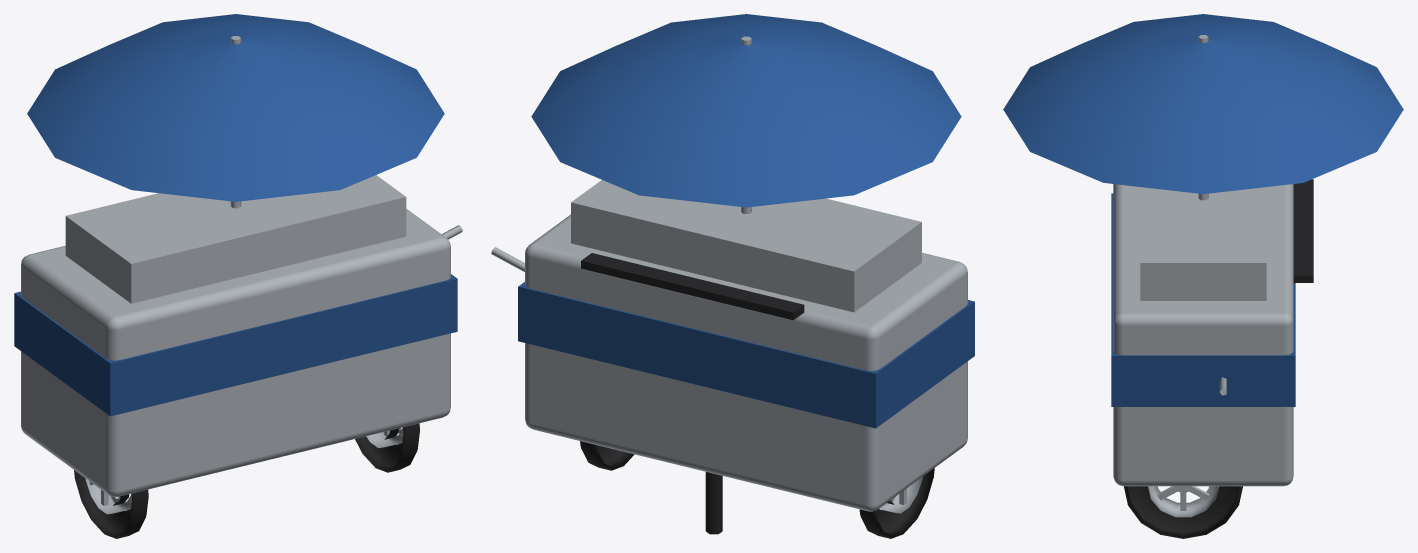
File: FOOD_CART.glb
The picture shows the model from 3 angles, left to right: view 1: azimuth 30°, elevation 25°; view 2: azimuth 150°, elevation 25°; view 3: azimuth 270°, elevation 25°; orthographic projection. The views are drawn at different scales.
Visible parts, largest first — view 1: steel_0, fabric_3, paint_1, tread_2; view 2: steel_0, fabric_3, paint_1, tread_2; view 3: fabric_3, steel_0, paint_1, tread_2.
Part boxes in pixels (x1=…): steel_0: x1=21, y1=36, x2=462, y2=514; fabric_3: x1=27, y1=14, x2=444, y2=201; paint_1: x1=14, y1=274, x2=457, y2=416; tread_2: x1=74, y1=423, x2=419, y2=538; steel_0: x1=491, y1=36, x2=967, y2=513; fabric_3: x1=531, y1=14, x2=961, y2=207; paint_1: x1=518, y1=282, x2=974, y2=428; tread_2: x1=580, y1=253, x2=934, y2=538; fabric_3: x1=1003, y1=14, x2=1403, y2=194; steel_0: x1=1113, y1=35, x2=1293, y2=517; paint_1: x1=1111, y1=193, x2=1295, y2=406; tread_2: x1=1124, y1=179, x2=1313, y2=538.
Bounding box in the file's own units: 2.31 × 2.41 × 2.
